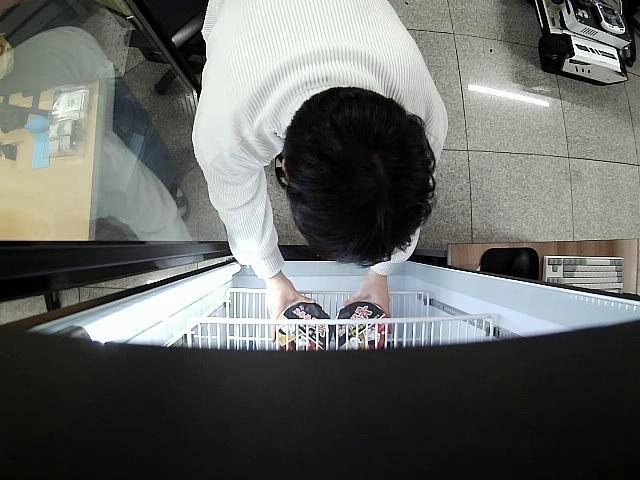07_buldak_L: (275, 300, 334, 346), (334, 302, 390, 349)
